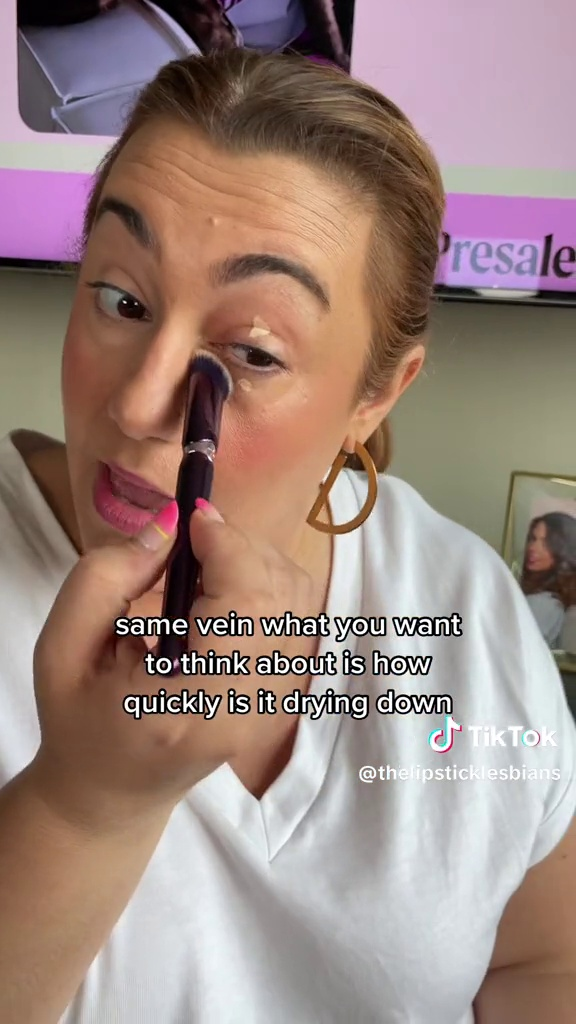train' :'yolo_data/train/images',: (151, 341, 237, 688)
